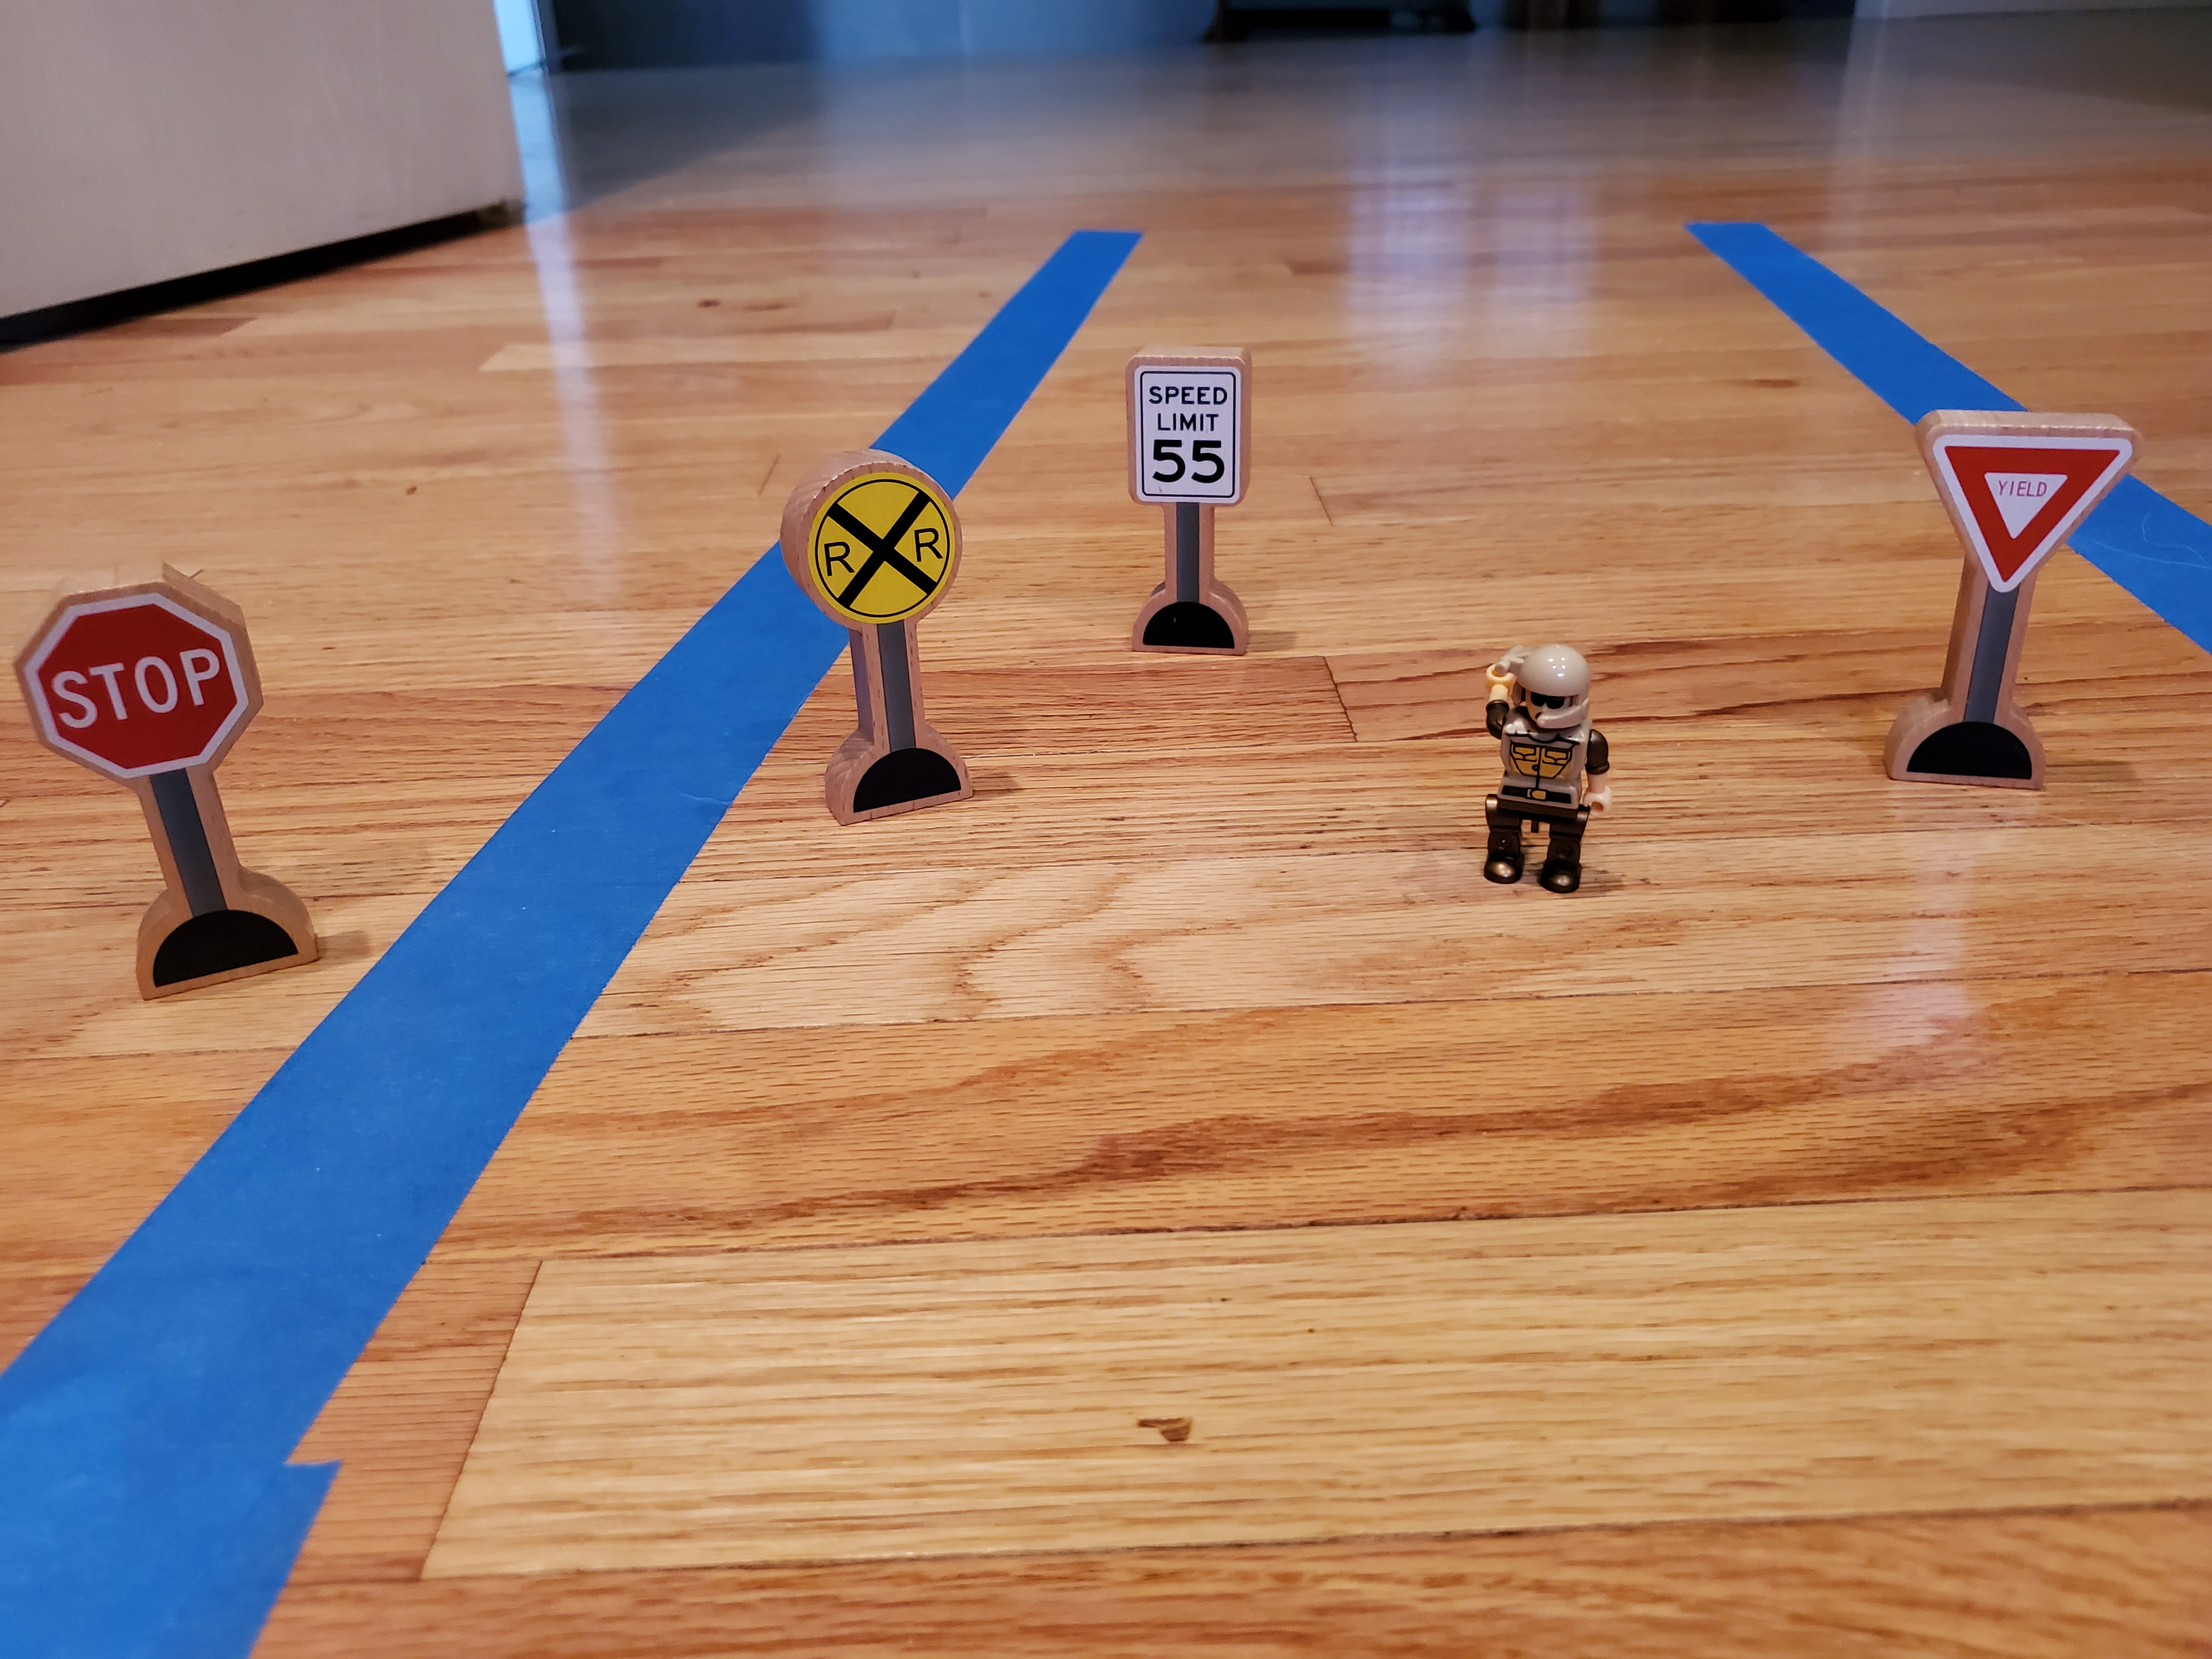Railroad Crossing: (780, 444, 962, 639)
Speed Limit 55: (1120, 343, 1251, 515)
Stop Sign: (20, 575, 273, 793)
Yield Sign: (1905, 397, 2142, 585)
person: (1480, 636, 1609, 907)
